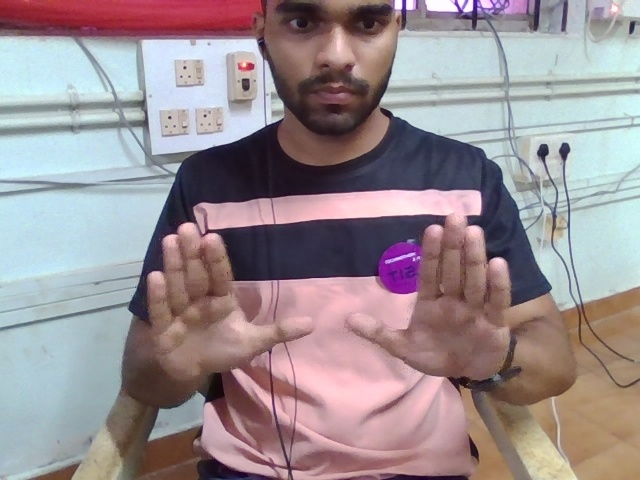All done: (129, 209, 547, 421)
